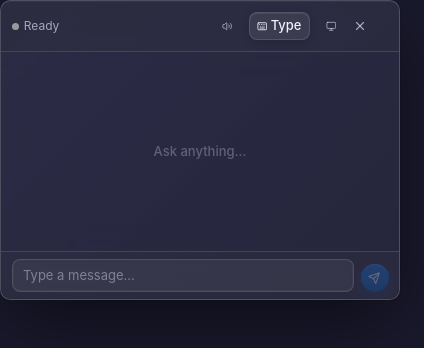
it: CompactChat › toggles mute state
The image size is (424, 348).
Click the button named "Mute TTS": click(227, 26) [209,8,245,44]
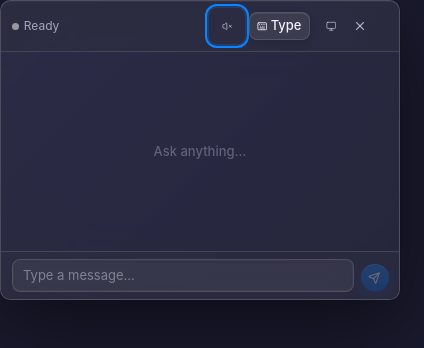
Expected: the button named "Unmute TTS" is shown, [209,8,245,44]
